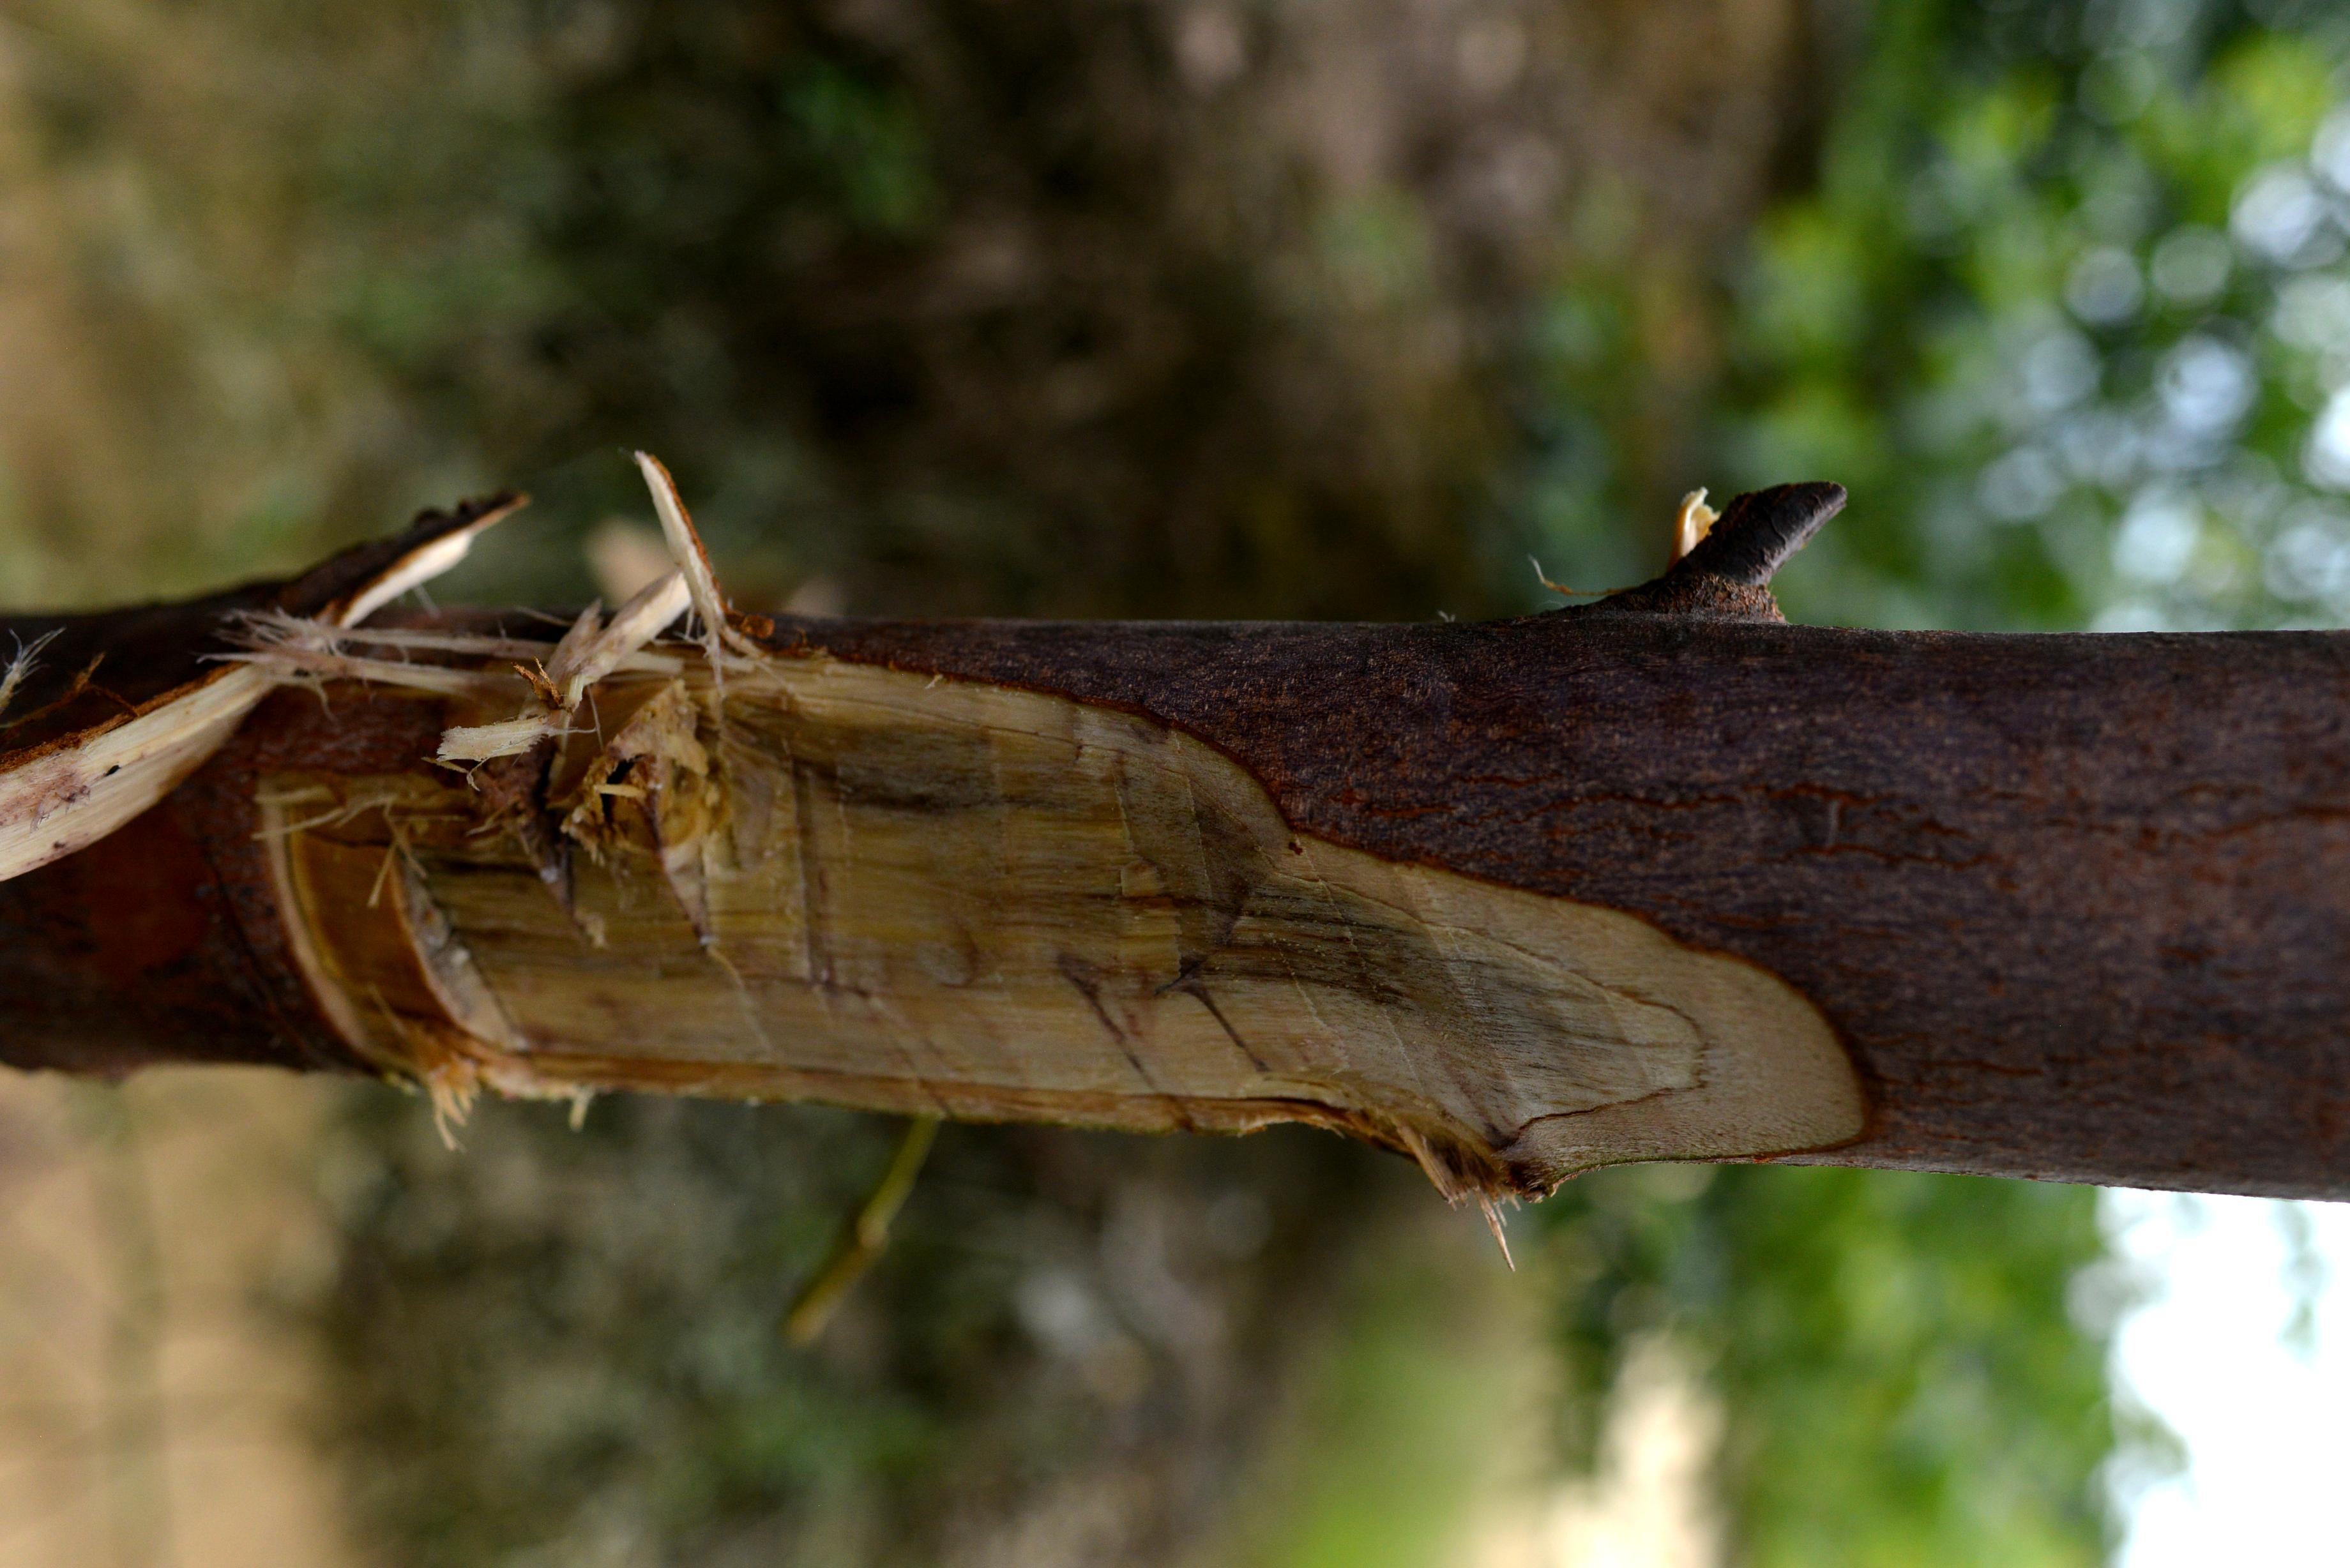Ralstonia: (313, 649, 1902, 1113)
